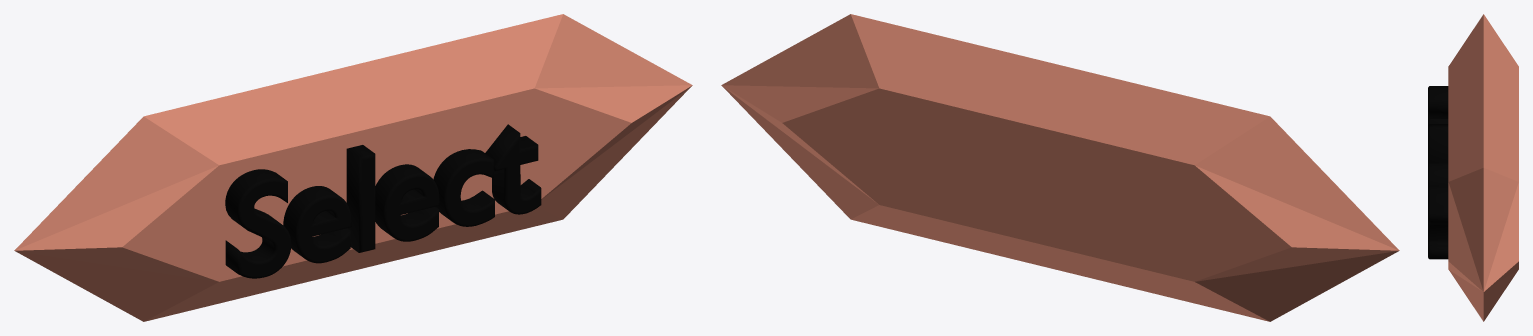
File: Return.obj
The picture shows the model from 3 angles, left to right: view 1: azimuth 30°, elevation 25°; view 2: azimuth 150°, elevation 25°; view 3: azimuth 270°, elevation 25°; orthographic projection. The views are drawn at different scales.
Visible parts, largest first — view 1: 立方体.001, テキスト; view 2: 立方体.001; view 3: 立方体.001, テキスト.
Part boxes in pixels (<box>): 立方体.001: <box>14,14,692,321</box>; テキスト: <box>225,124,541,278</box>; 立方体.001: <box>721,14,1399,321</box>; 立方体.001: <box>1448,14,1518,321</box>; テキスト: <box>1428,86,1448,259</box>.
Bounding box in the file's own units: 2.07 × 0.6 × 0.3201.
1 material, 1 textured.
